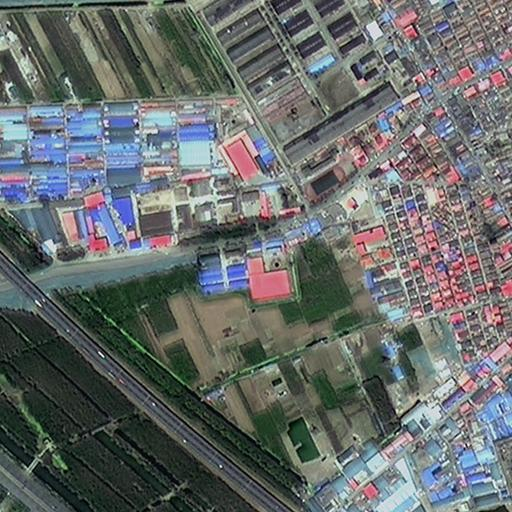school: (296, 144, 358, 200)
